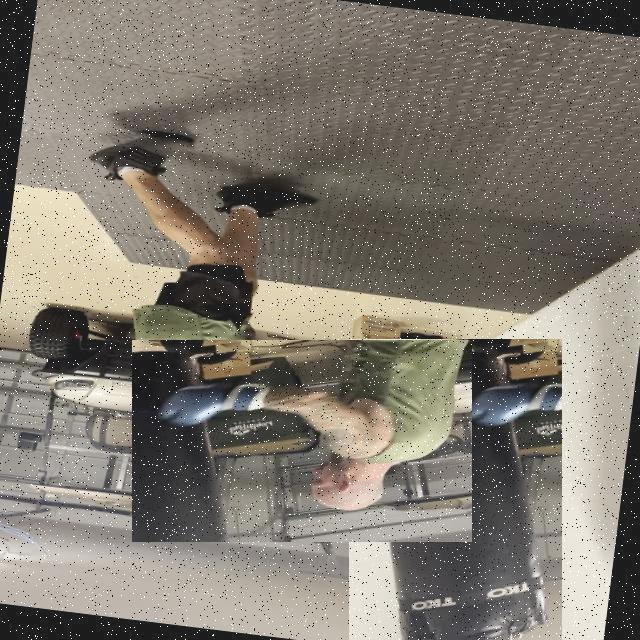punch: (132, 340, 472, 542)
